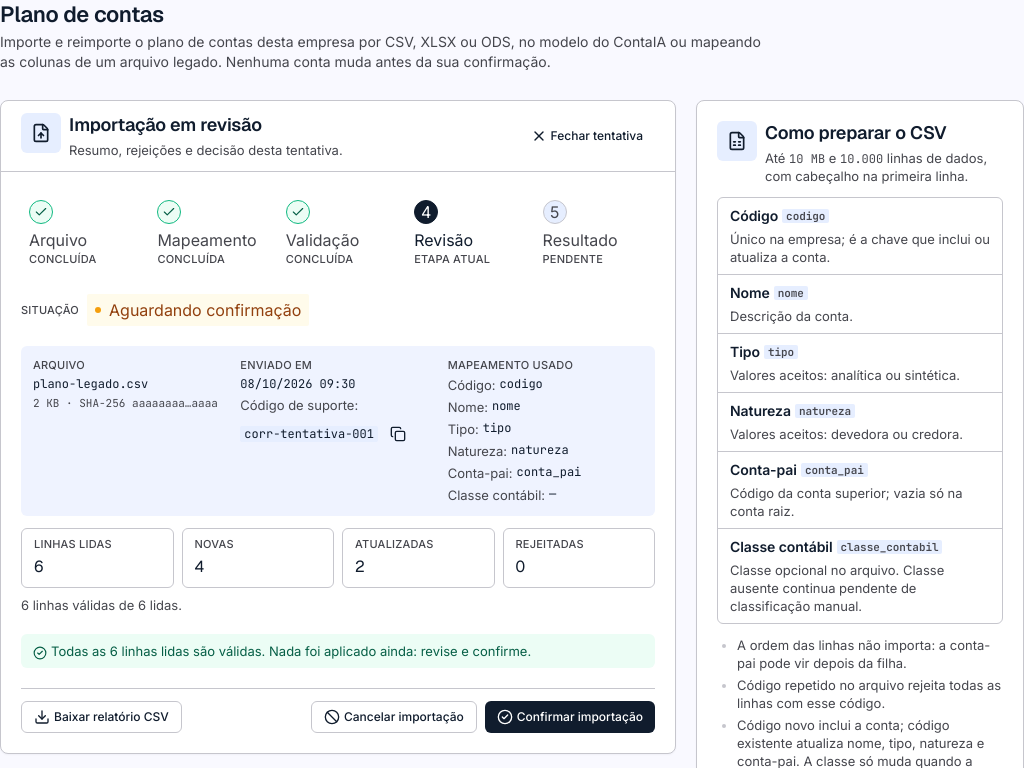
Test case: diálogos destrutivos sem dois "Cancelar" › cancelar a prévia obsoleta (conflito): também "Manter prévia"
Click the button "Confirmar importação": (570, 717) [485,701,655,733]
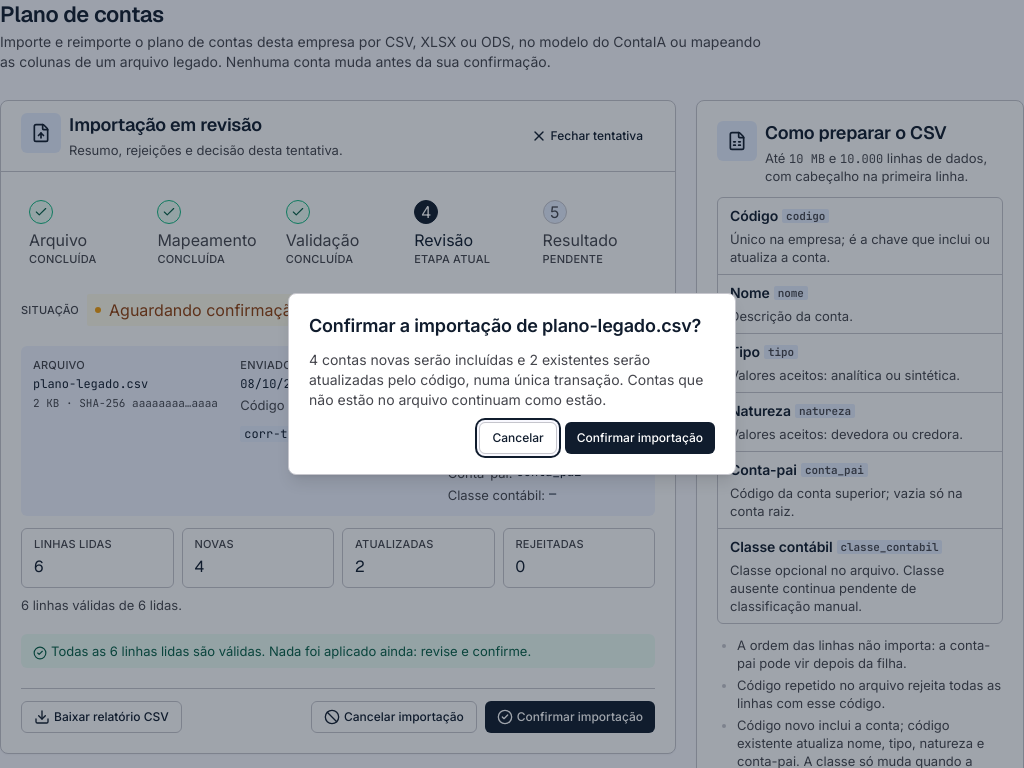
Click the button "Confirmar importação": (640, 438) [565,422,715,454]
(page scrolled)
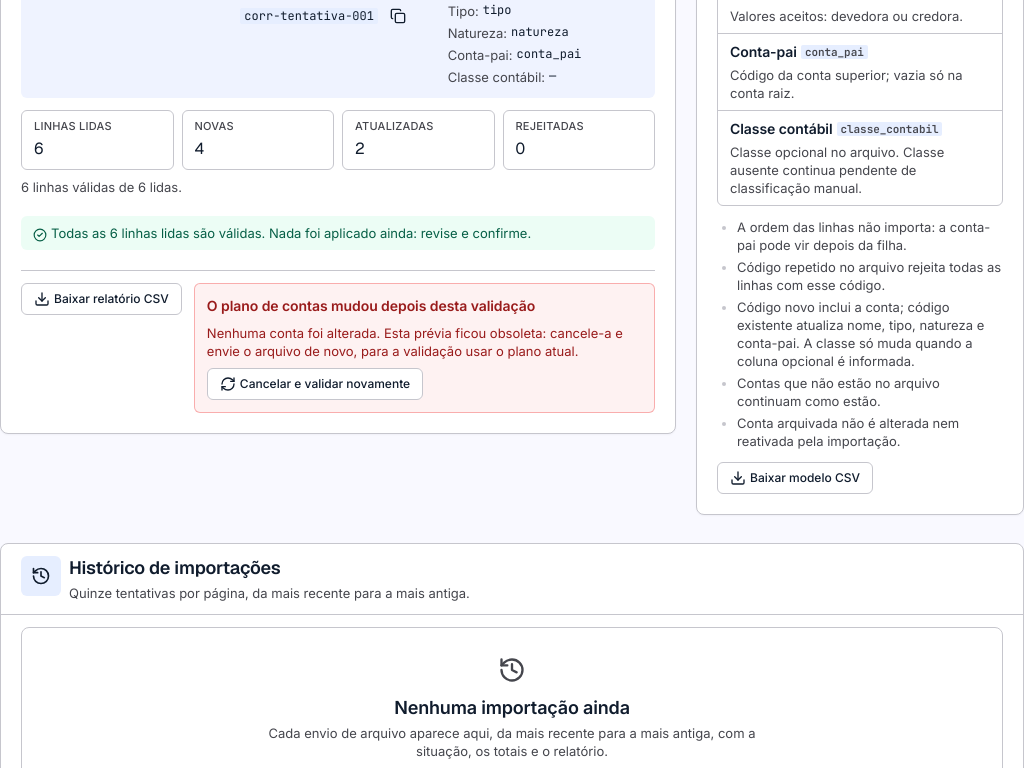
Click the button "Cancelar e validar novamente": (315, 384) [207,368,423,400]
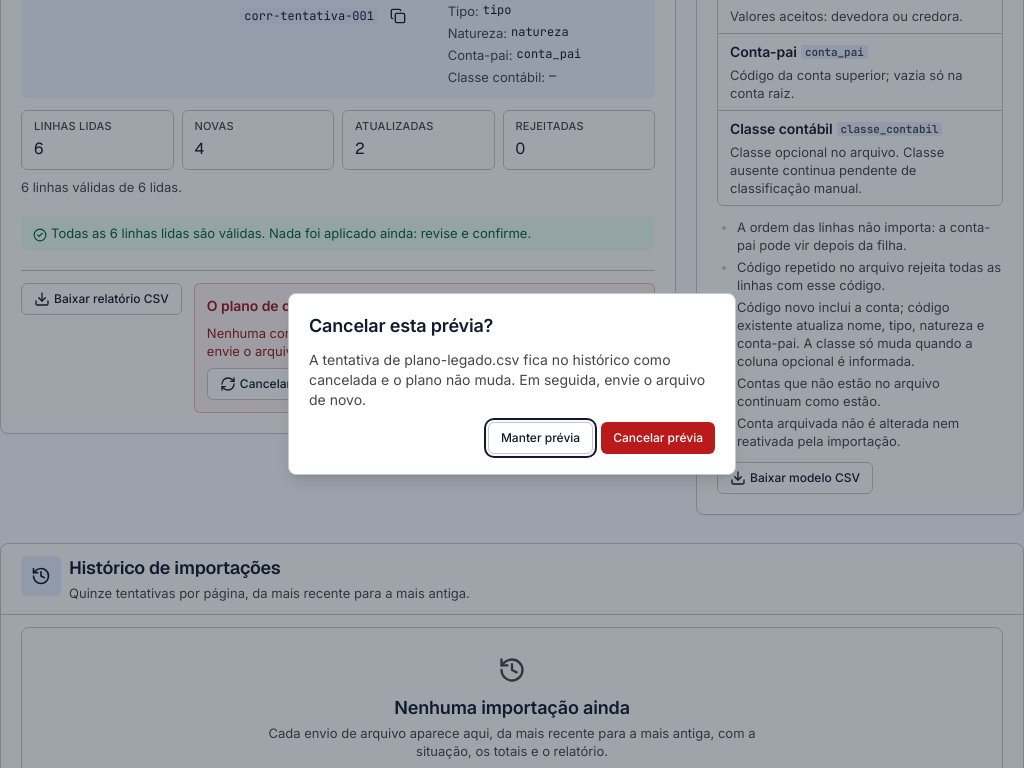
Expected: the button "Manter prévia" is shown, [488,422,593,454]
